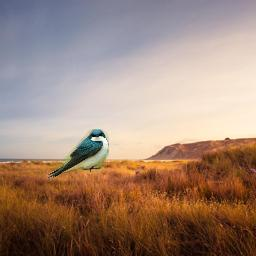Swallow: (46, 129, 109, 179)
